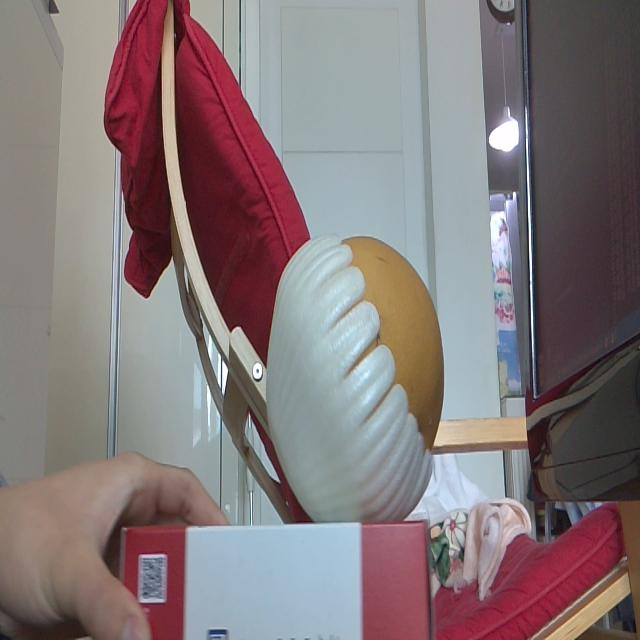pear: (276, 235, 447, 521)
